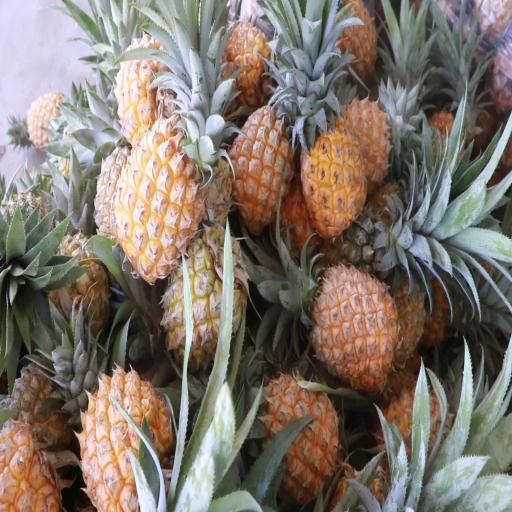------------------------------: (160, 236, 237, 364)
Pineapple - v8 v1: (81, 368, 170, 512), (119, 128, 202, 272), (257, 382, 341, 498), (310, 264, 394, 379), (226, 104, 296, 226), (301, 122, 367, 232), (112, 38, 176, 134), (224, 22, 274, 100)
